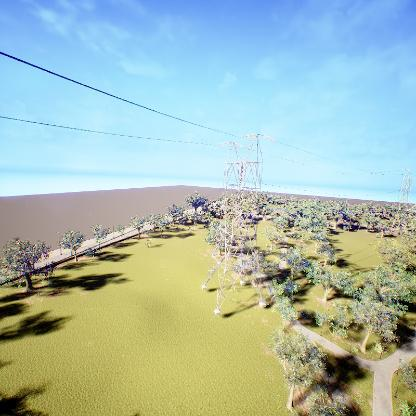tower: (199, 131, 272, 320)
